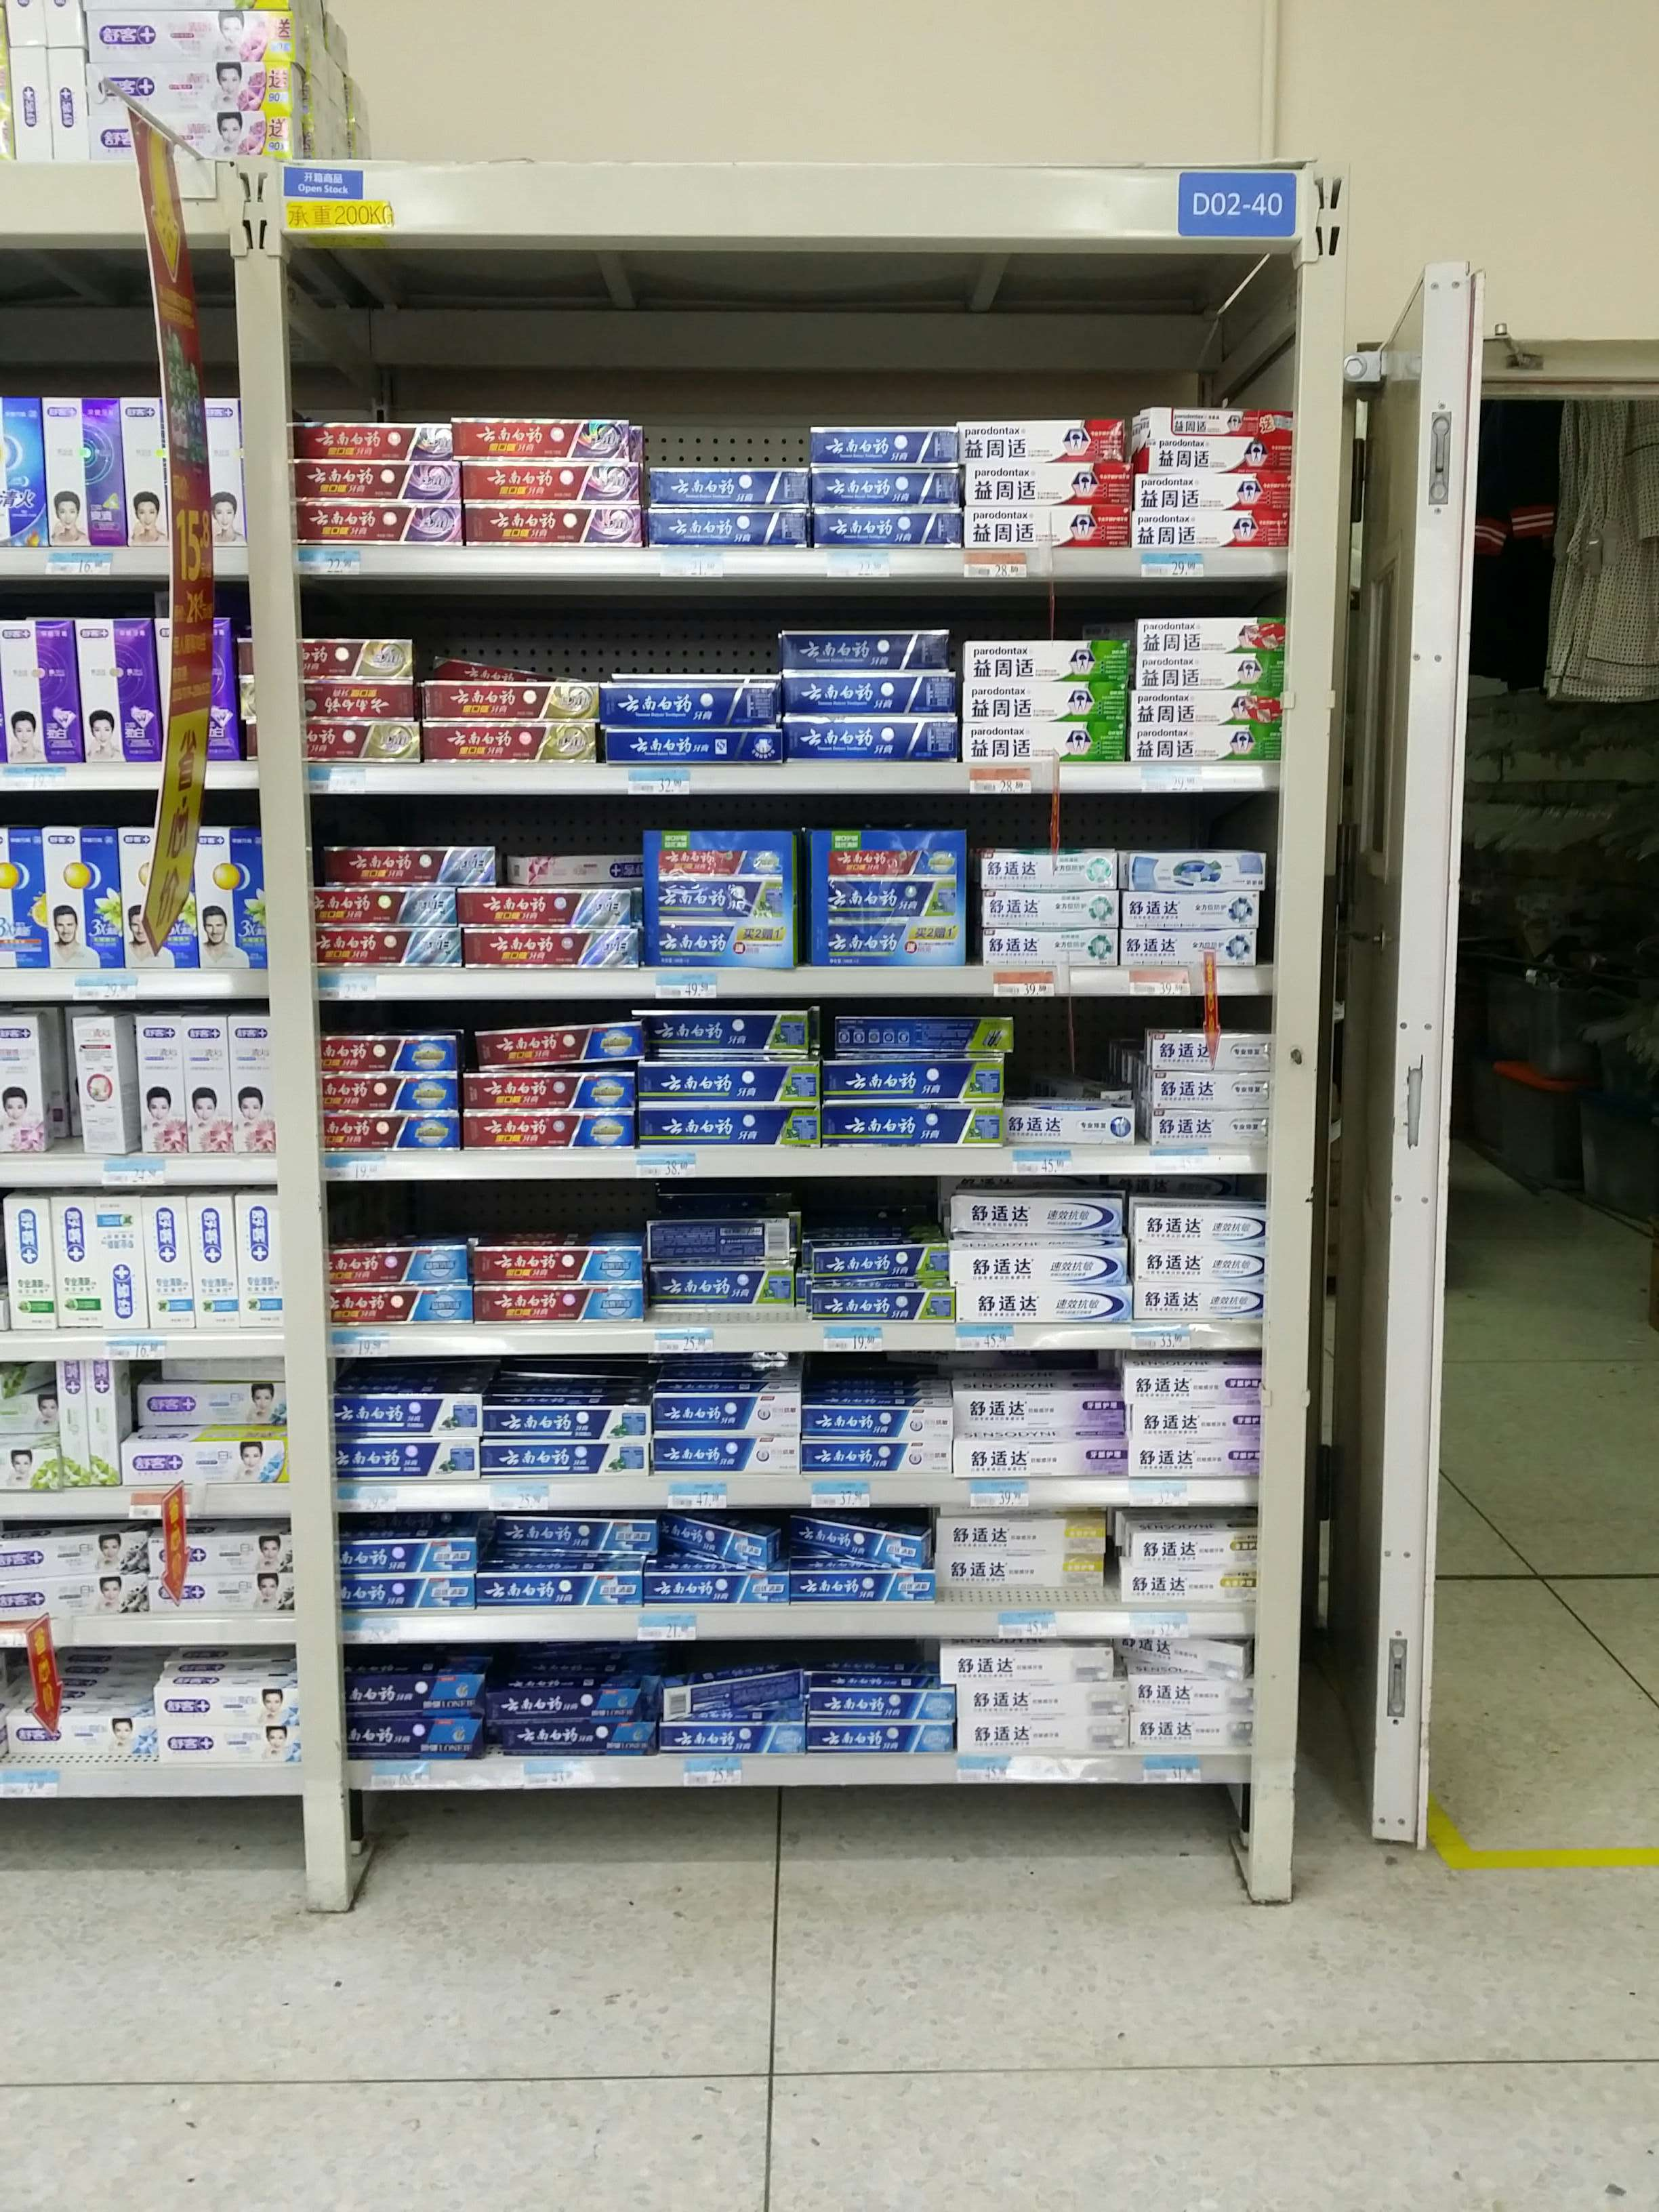product: (807, 828, 967, 966), (645, 828, 796, 964), (42, 397, 125, 548), (81, 614, 158, 764), (0, 615, 76, 764), (193, 817, 266, 969), (87, 58, 292, 108), (120, 823, 189, 973), (91, 115, 295, 163), (49, 823, 115, 969), (164, 616, 230, 760), (121, 1431, 287, 1487), (789, 713, 959, 767), (956, 1381, 1122, 1435), (0, 1007, 55, 1161), (823, 1060, 1004, 1106), (789, 1509, 930, 1568), (0, 1515, 148, 1570), (598, 679, 778, 724), (449, 415, 632, 459), (476, 1559, 644, 1605), (950, 1193, 1122, 1239), (4, 1708, 152, 1761), (661, 1665, 802, 1719), (340, 1664, 482, 1717), (937, 1637, 1115, 1679), (465, 462, 641, 504), (648, 1007, 812, 1052), (73, 1013, 125, 1151), (825, 1013, 1015, 1052), (323, 841, 493, 883), (640, 1107, 819, 1147), (655, 1387, 798, 1435), (426, 678, 592, 720), (464, 1107, 634, 1148), (97, 1187, 144, 1334), (201, 392, 244, 552), (823, 1110, 1004, 1148), (493, 1515, 657, 1557), (149, 1522, 290, 1571), (636, 1065, 817, 1103), (661, 1512, 784, 1568), (242, 722, 415, 762), (423, 725, 596, 764), (465, 507, 644, 545), (603, 726, 782, 764), (954, 1439, 1128, 1477), (293, 418, 447, 462), (237, 679, 416, 716), (190, 1191, 235, 1337), (1130, 509, 1293, 550), (473, 1023, 644, 1062), (1, 825, 45, 977), (954, 1243, 1127, 1281), (966, 507, 1128, 548), (966, 462, 1129, 502), (962, 679, 1127, 718), (470, 1243, 641, 1281), (297, 504, 458, 544), (954, 1284, 1130, 1321), (306, 885, 459, 927), (786, 671, 956, 709), (935, 1512, 1105, 1550), (461, 889, 634, 926), (465, 929, 634, 966), (815, 508, 963, 550), (648, 508, 809, 547), (648, 1267, 794, 1309), (333, 1719, 486, 1759), (2, 1188, 47, 1326), (974, 846, 1116, 890), (334, 1395, 480, 1437), (237, 1188, 280, 1332), (479, 1441, 653, 1476), (483, 1399, 650, 1435), (183, 1012, 226, 1153), (964, 721, 1126, 758), (802, 1397, 951, 1438), (464, 1067, 632, 1103), (962, 419, 1120, 457), (1120, 846, 1268, 887), (645, 1220, 793, 1261), (1008, 1097, 1136, 1143), (49, 1195, 93, 1331), (317, 1031, 457, 1073), (501, 1719, 656, 1757), (964, 640, 1129, 675), (239, 637, 411, 671), (478, 1285, 642, 1320), (0, 1575, 146, 1614), (157, 1725, 298, 1766), (130, 397, 167, 550), (1130, 687, 1284, 724), (1128, 1358, 1259, 1401), (648, 468, 809, 503), (958, 1719, 1125, 1753), (333, 1438, 477, 1477), (157, 1685, 299, 1724), (152, 1575, 293, 1614), (934, 1556, 1105, 1589), (146, 1190, 185, 1334), (298, 468, 460, 501), (489, 1679, 639, 1716), (232, 1012, 273, 1147), (320, 1114, 457, 1154), (1128, 1517, 1256, 1559), (653, 1437, 796, 1475), (1136, 473, 1290, 508), (142, 1387, 287, 1423), (312, 930, 462, 965), (1133, 651, 1284, 686), (1120, 1564, 1260, 1602), (793, 1570, 931, 1607), (958, 1682, 1125, 1713), (336, 1572, 473, 1610), (809, 428, 956, 464), (783, 632, 949, 663), (976, 892, 1116, 928), (138, 1019, 177, 1151), (647, 1570, 792, 1605), (1134, 1244, 1263, 1283), (810, 1285, 952, 1320), (1144, 436, 1289, 470), (815, 470, 962, 504), (1133, 614, 1286, 647), (1122, 892, 1258, 928), (1136, 1284, 1269, 1322), (1133, 1204, 1267, 1241), (806, 1721, 954, 1754), (1120, 1637, 1249, 1675), (1132, 729, 1282, 762), (974, 933, 1118, 966), (331, 1536, 474, 1570), (331, 1285, 475, 1319), (1147, 1034, 1278, 1071), (802, 1441, 949, 1473), (501, 849, 641, 883), (326, 1246, 466, 1279), (1128, 1404, 1262, 1439), (658, 1721, 802, 1753), (1120, 933, 1257, 966), (1133, 1441, 1259, 1478), (323, 1078, 454, 1112), (807, 1689, 956, 1719), (1131, 1679, 1257, 1715), (1151, 1113, 1269, 1149), (47, 52, 85, 165), (1131, 1719, 1256, 1753), (5, 49, 42, 159), (86, 1364, 119, 1488), (806, 1248, 947, 1277), (1149, 1076, 1273, 1106), (1147, 407, 1289, 433), (60, 1358, 83, 1495), (1, 1384, 55, 1435), (2, 1441, 54, 1490), (152, 1358, 285, 1377)
